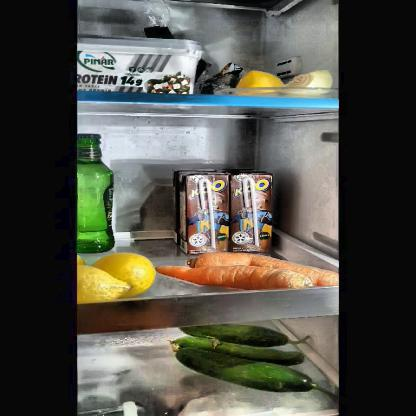carrot: (191, 252, 336, 288), (159, 267, 311, 287)
cheese: (77, 35, 201, 93)
cucumber: (174, 348, 317, 390), (172, 337, 307, 364)
lemon: (96, 253, 158, 297), (78, 264, 132, 300)
mineral_water: (78, 132, 117, 254)
onion: (282, 70, 332, 93)
